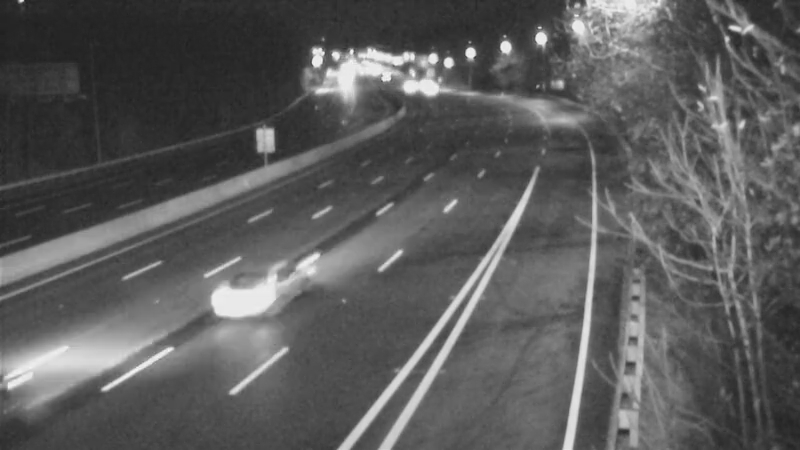vehicle: (213, 251, 293, 331)
